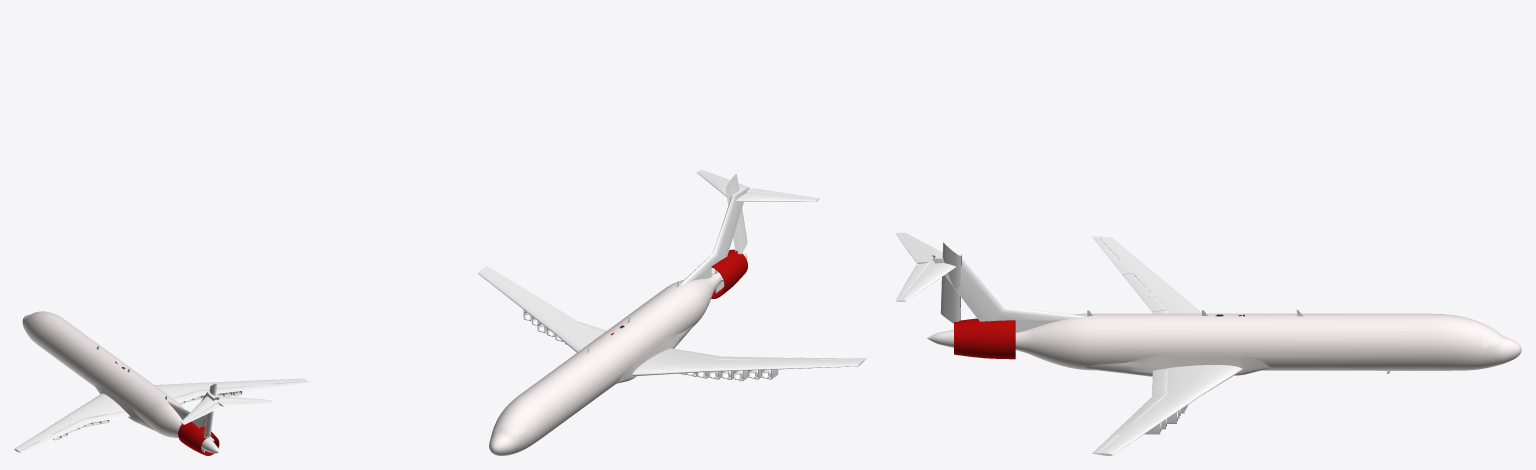
The model's file is turbine.gltf.
3 renders of one model, left to right at view 1: azimuth 30°, elevation 25°; view 2: azimuth 150°, elevation 25°; view 3: azimuth 270°, elevation 25°, orthographic. The views are drawn at different scales.
Visible parts, largest first — view 1: Cylinder, Cylinder.004, Cylinder.001, Cylinder.006, Cylinder.005; view 2: Cylinder, Cylinder.004, Cylinder.005, Cylinder.001, Cylinder.006, Cylinder.007; view 3: Cylinder, Cylinder.004, Cylinder.005, Cylinder.001, Cylinder.007, Cylinder.006.
Boxes of the visible parts, x1,y1,x2,y2 form: Cylinder: [22, 311, 218, 453]; Cylinder.004: [14, 378, 309, 452]; Cylinder.001: [178, 421, 219, 455]; Cylinder.006: [180, 396, 272, 423]; Cylinder.005: [167, 391, 219, 428]; Cylinder: [489, 253, 747, 455]; Cylinder.004: [478, 266, 866, 376]; Cylinder.005: [679, 186, 748, 284]; Cylinder.001: [711, 249, 747, 298]; Cylinder.006: [697, 170, 818, 201]; Cylinder.007: [726, 174, 747, 254]; Cylinder: [927, 313, 1521, 376]; Cylinder.004: [1092, 236, 1242, 455]; Cylinder.005: [932, 255, 1084, 332]; Cylinder.001: [954, 318, 1015, 359]; Cylinder.007: [940, 241, 962, 323]; Cylinder.006: [898, 232, 955, 301].
Size of the model in its own units: 34.84 by 34.67 by 42.54.
